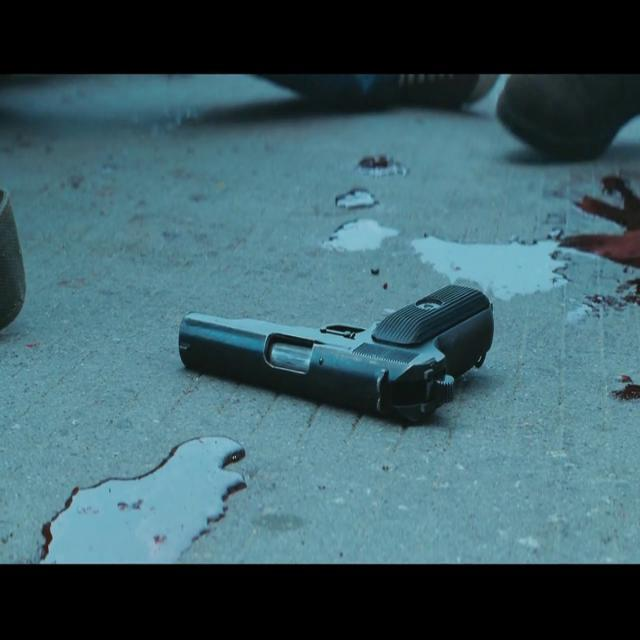gun-knife-thesis - v11 Yolov5 augmented: (169, 267, 496, 416)
